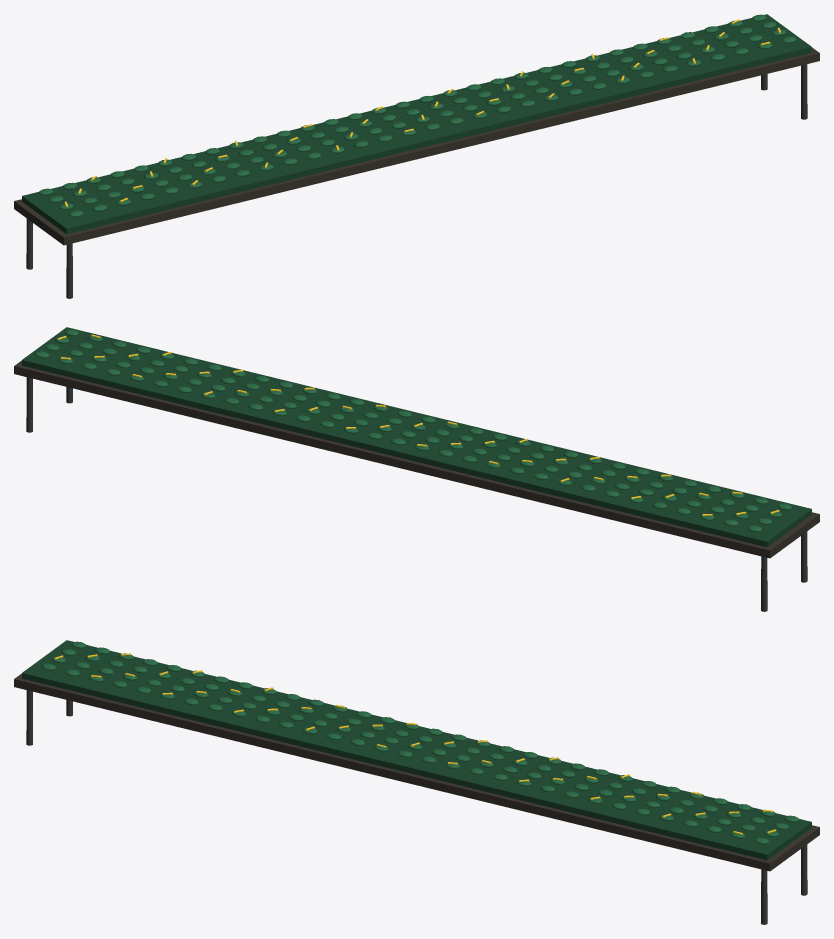
File: bed-anoectochilus.glb
3 renders of one model, top to bottom at view 1: azimuth 30°, elevation 25°; view 2: azimuth 150°, elevation 25°; view 3: azimuth 330°, elevation 25°, orthographic.
Parts seen in each view (by area): view 1: bed-anoectochilus; view 2: bed-anoectochilus; view 3: bed-anoectochilus.
Part boxes in pixels (x1,y1,x2,y2): bed-anoectochilus: (14,14,819,298); bed-anoectochilus: (14,327,819,611); bed-anoectochilus: (14,640,819,924).
Size of the model in its own units: 7 by 0.695 by 0.8.
